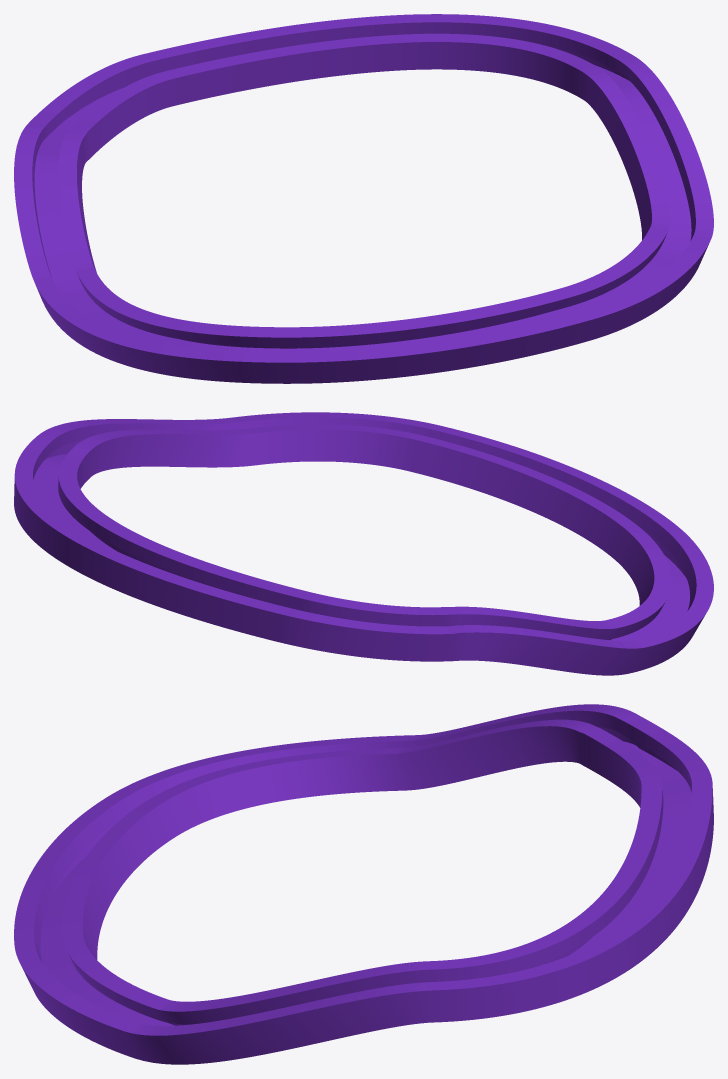
File: track2.fbx
3 renders of one model, top to bottom at view 1: azimuth 30°, elevation 25°; view 2: azimuth 150°, elevation 25°; view 3: azimuth 270°, elevation 25°, orthographic. The views are drawn at different scales.
Parts seen in each view (by area): view 1: trackv2; view 2: trackv2; view 3: trackv2.
Boxes of the visible parts, left/top/right/bottom form: trackv2: left=14, top=14, right=713, bottom=383; trackv2: left=14, top=412, right=713, bottom=675; trackv2: left=14, top=704, right=713, bottom=1064.
Size of the model in its own units: 985 by 165 by 859.
